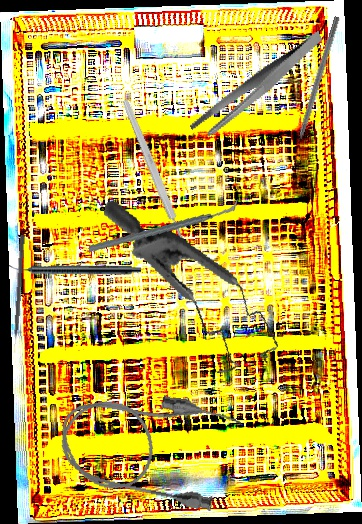Cannula: (51, 377, 244, 514)
Chopper: (88, 179, 239, 273)
Dressing Forceps: (175, 30, 340, 142)
Handpiece: (9, 263, 141, 275)
Hook Surgical: (290, 15, 341, 157)
Pusher: (10, 234, 26, 354)
Scalpel Handle: (120, 98, 188, 245)
Speculum: (72, 199, 303, 386)
